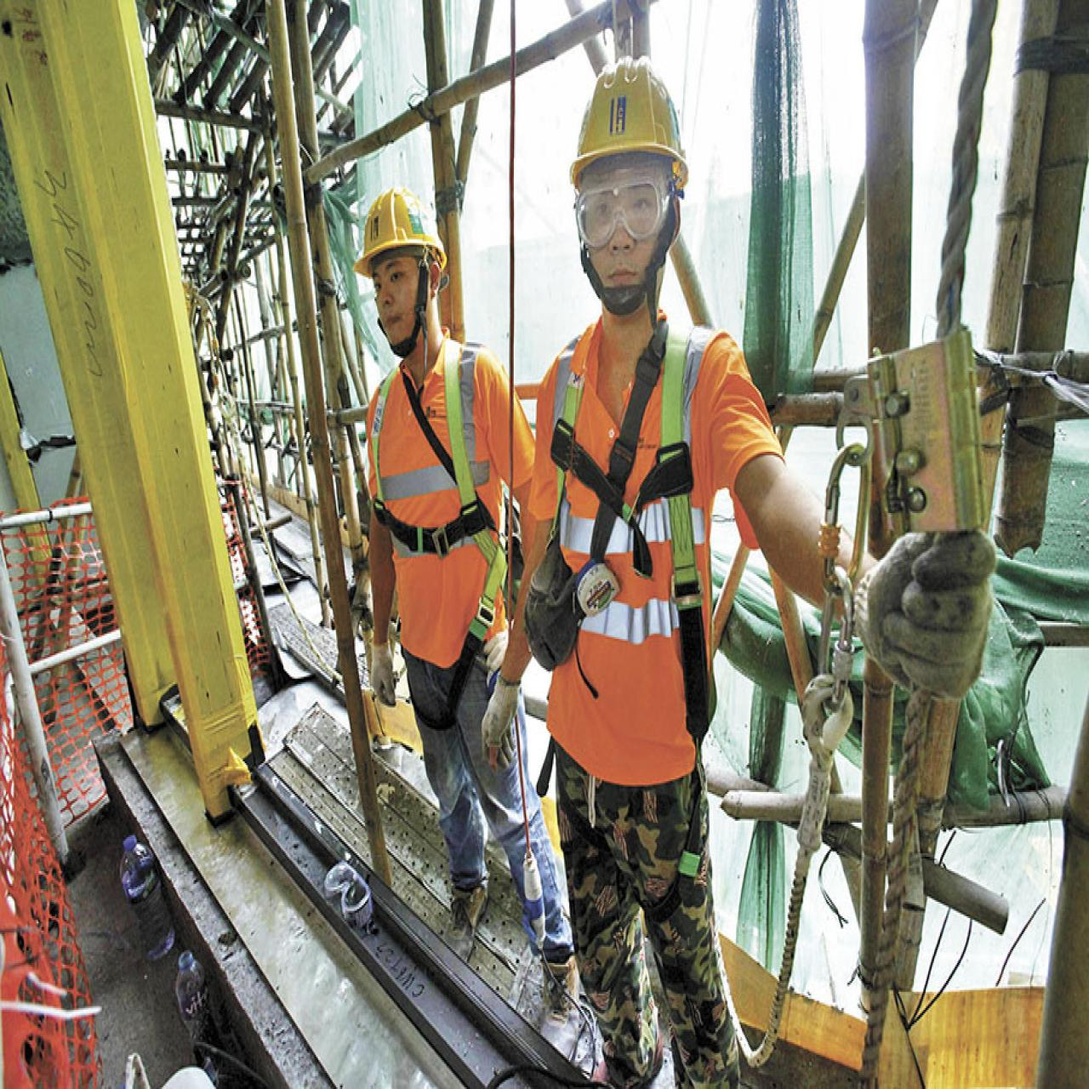NO_Safety_Vest: (541, 327, 724, 788), (365, 351, 510, 663)
Person: (489, 45, 875, 1089), (336, 186, 569, 982)
